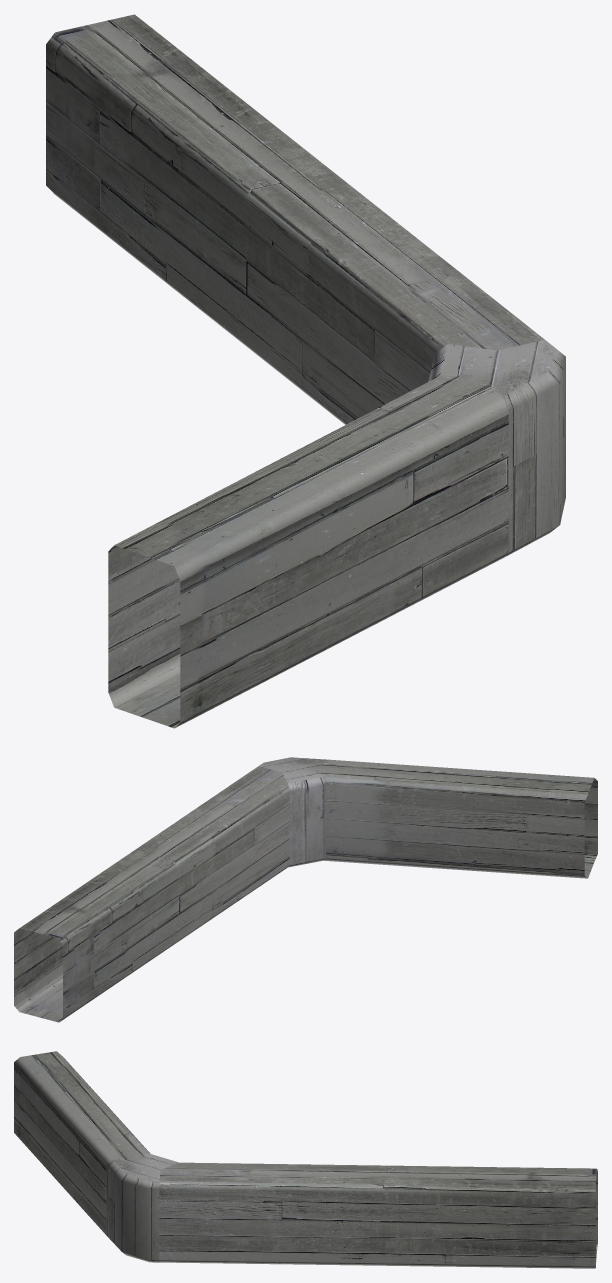
Rendered from fence_low.fbx.
3 views of the same model, one above another, from view 1: azimuth 30°, elevation 25°; view 2: azimuth 150°, elevation 25°; view 3: azimuth 270°, elevation 25° (orthographic). The views are drawn at different scales.
Parts seen in each view (by area): view 1: 11.004; view 2: 11.004; view 3: 11.004.
Part boxes in pixels (left/top/right/bottom): 11.004: left=46, top=14, right=565, bottom=728; 11.004: left=14, top=757, right=597, bottom=1022; 11.004: left=14, top=1051, right=597, bottom=1268.
Size of the model in its own units: 292 by 79.6 by 519.
